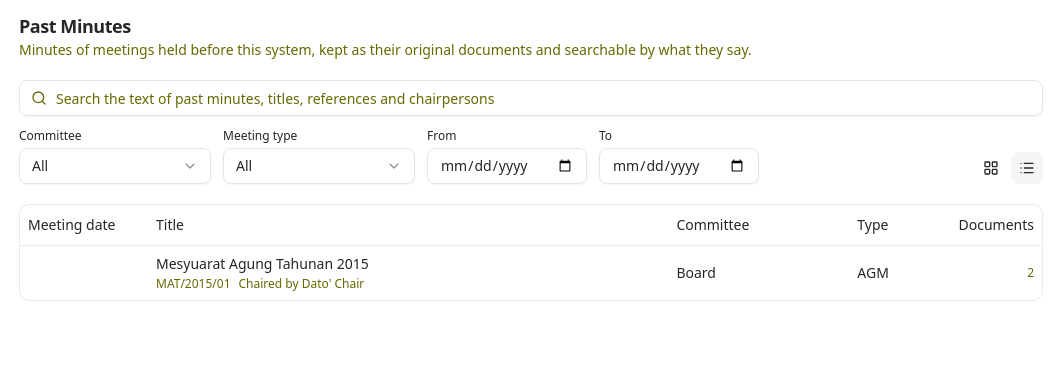
Test: PastMinutes › shows each matching passage with the search term highlighted
Type "bajet" into the search field named "Search Past Minutes" at (531, 98), box top-left (19, 80), bottom-right (1043, 116)
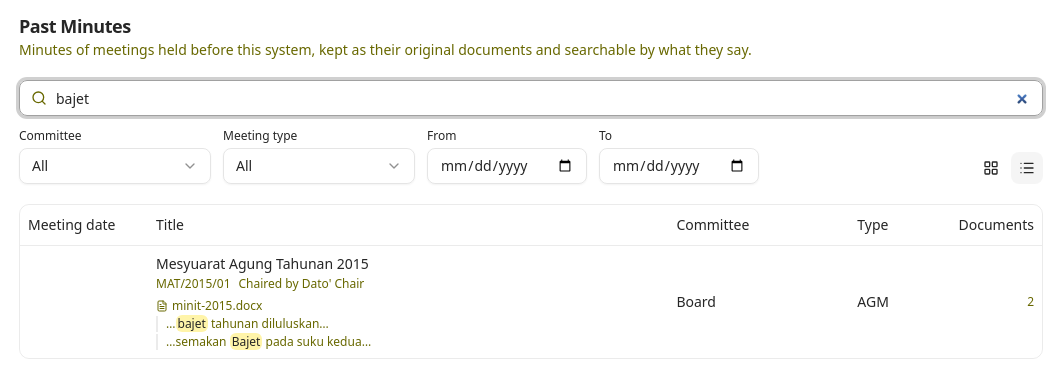
Expected: the text "bajet" is shown 2 times, top-left (176, 314), bottom-right (208, 332); top-left (230, 332), bottom-right (262, 350)
Expected: the text "minit-2015.docx" is shown, top-left (172, 298), bottom-right (262, 314)
